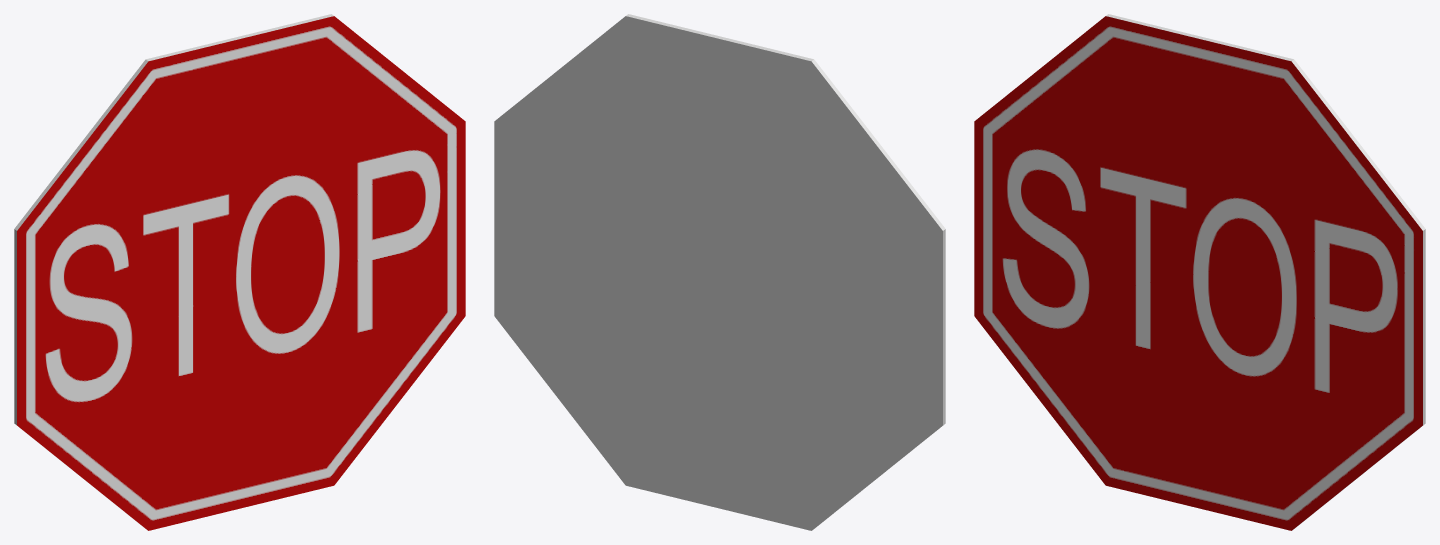
File: TrafficSign_Stop.fbx
3 views of the same model, side by side, from view 1: azimuth 30°, elevation 25°; view 2: azimuth 150°, elevation 25°; view 3: azimuth 330°, elevation 25° (orthographic).
Parts seen in each view (by area): view 1: 円柱; view 2: 円柱; view 3: 円柱.
Boxes of the visible parts, <box> form: 円柱: <box>14,14,465,530</box>; 円柱: <box>494,14,945,530</box>; 円柱: <box>974,14,1425,530</box>.
Size of the model in its own units: 185 by 185 by 2.
